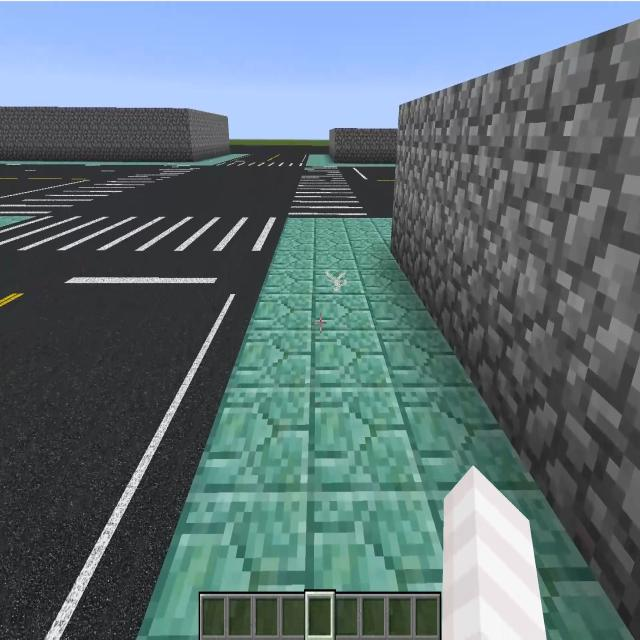crosswalk: (0, 215, 287, 253), (0, 166, 208, 215), (289, 168, 369, 216), (215, 161, 303, 169)
road: (0, 255, 272, 638), (78, 171, 300, 213), (1, 167, 157, 197), (342, 170, 394, 213), (232, 146, 328, 160)
sidewalk: (140, 220, 631, 639), (0, 154, 250, 165), (0, 216, 34, 228), (308, 154, 335, 166), (336, 163, 395, 166)
